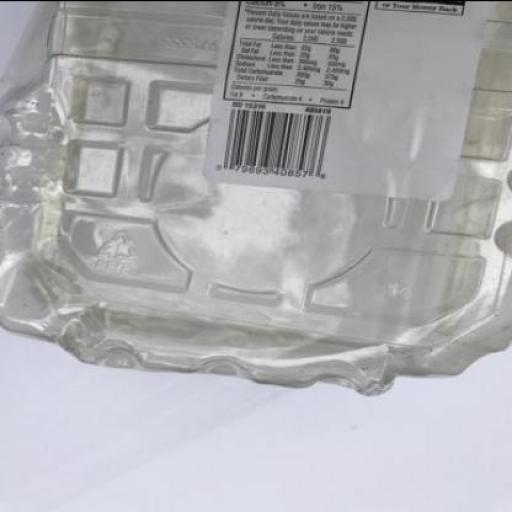plastic: (0, 0, 511, 400)
